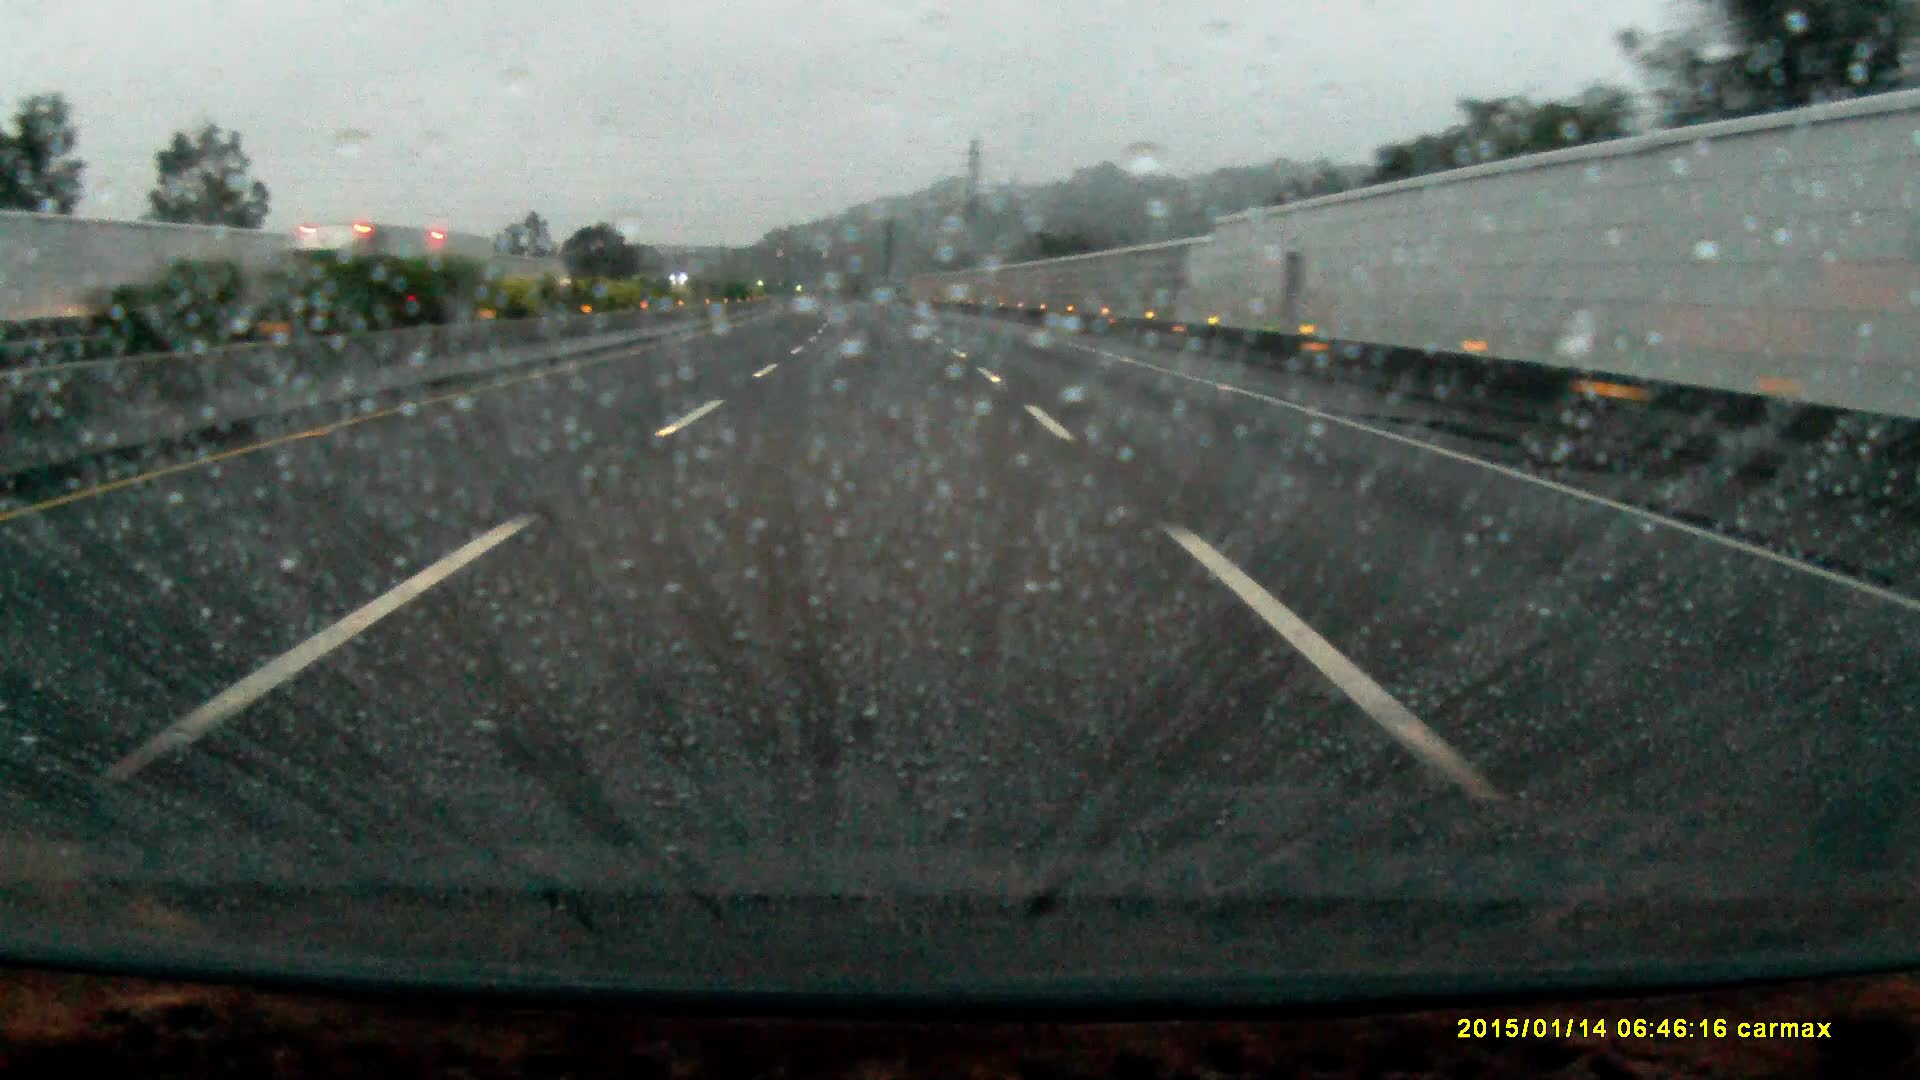vehicle: (270, 224, 493, 327)
